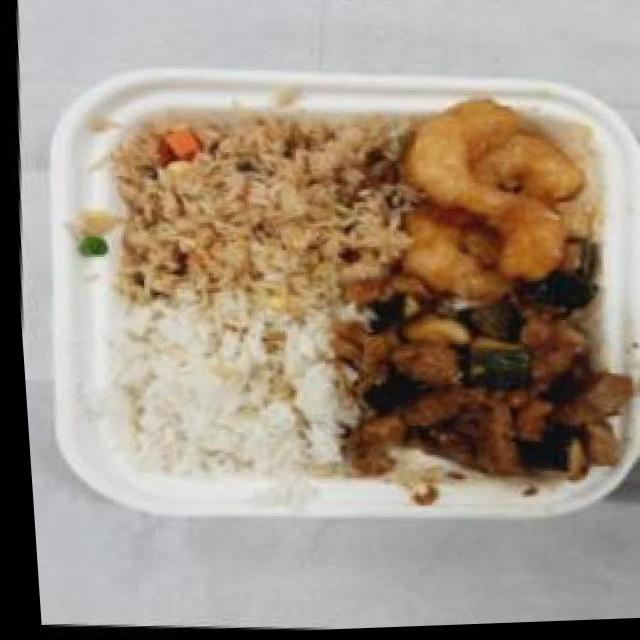Fried Rice: (103, 109, 392, 327)
Honey Walnut Shrimp: (371, 96, 615, 317)
Kung Pao Chicken: (324, 280, 638, 502)
White Steamed Rice: (100, 306, 344, 493)
